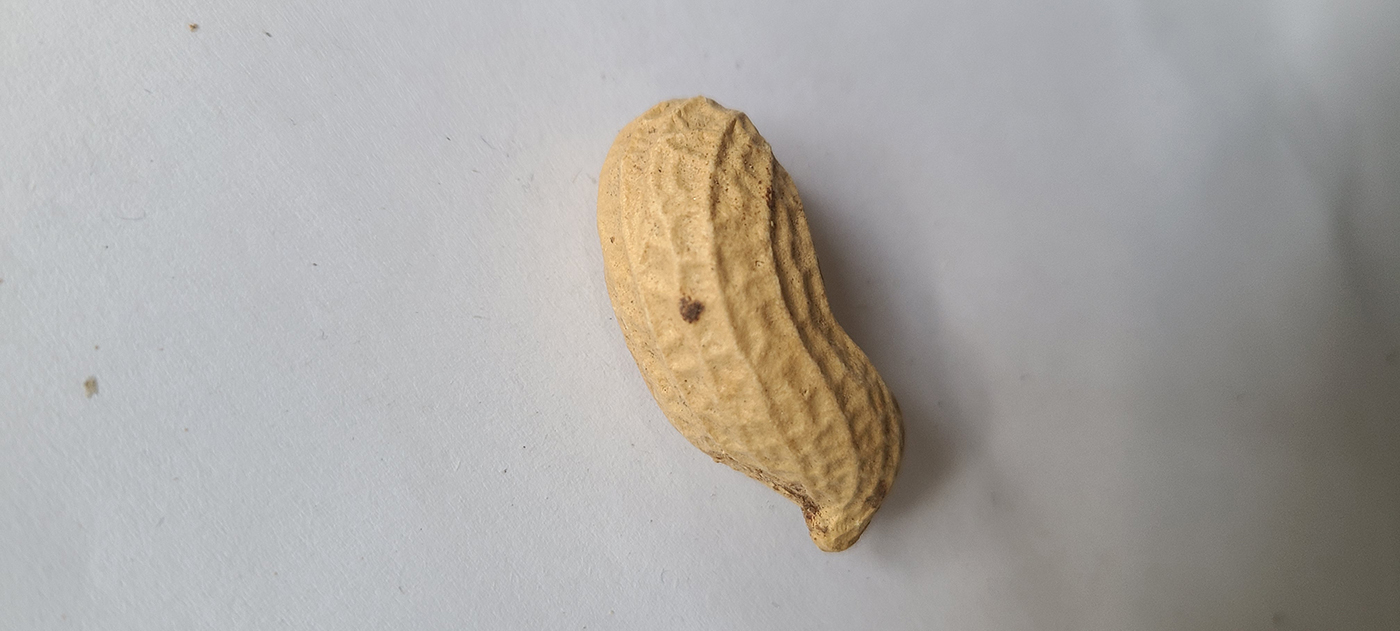h: (595, 95, 906, 554)
